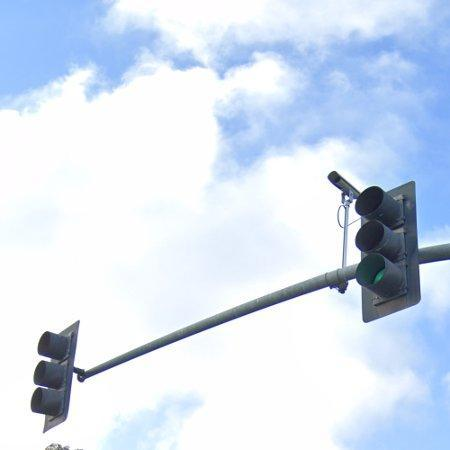traffic lights: (354, 179, 421, 321), (32, 319, 80, 435)
